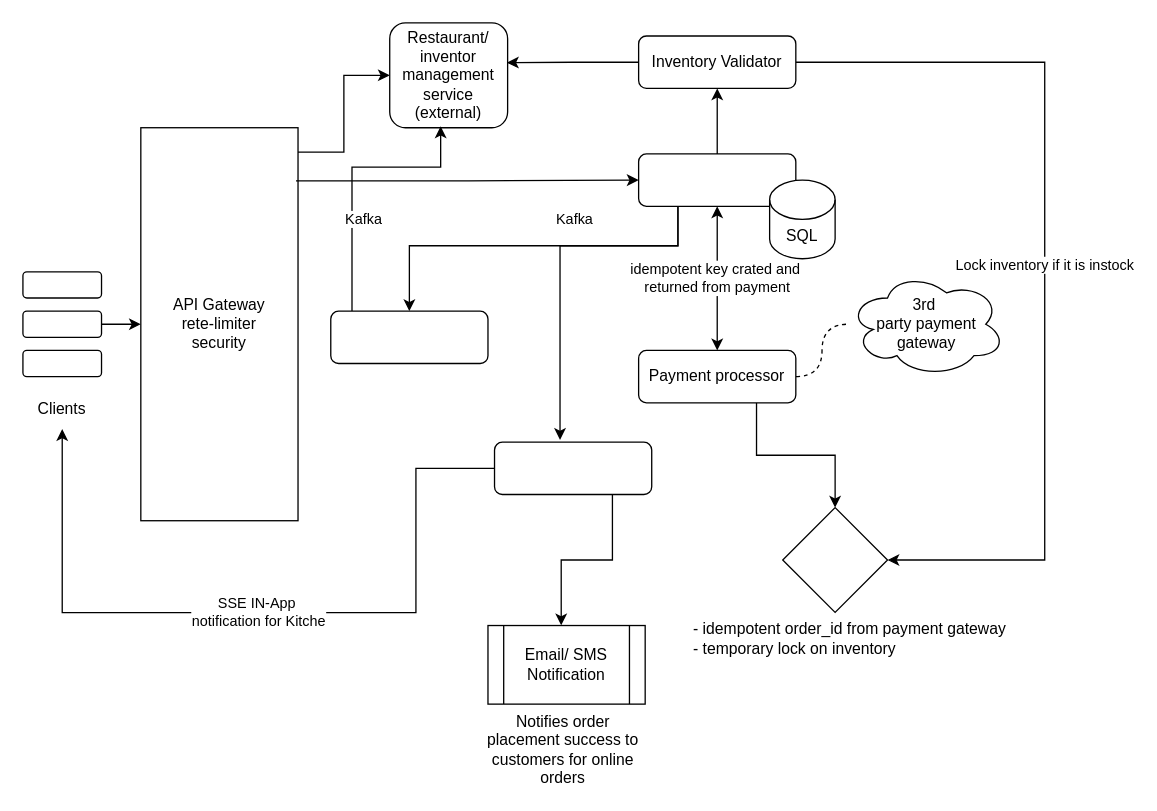
This 1157x811 diagram has some shape labels left out. Each missing label, with the centre of its shape:
"Inventory Update" belongs at point 408,337.
"Notification Module" belongs at point 572,468.
"Place order" belongs at point 716,179.
"Redis" belongs at point 834,559.
